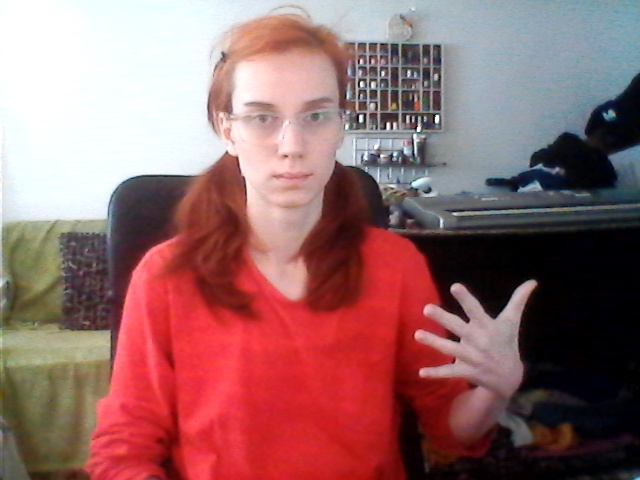pat: (405, 274, 547, 389)
